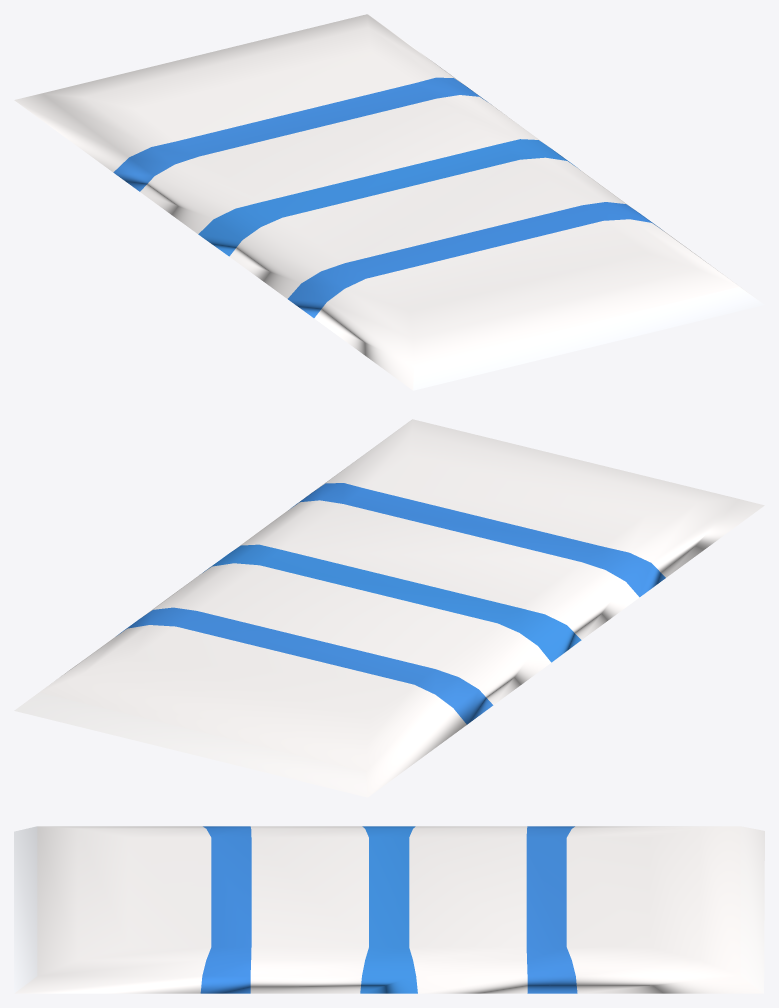
The model's file is BeachTowelBlue.glb.
3 renders of one model, top to bottom at view 1: azimuth 30°, elevation 25°; view 2: azimuth 150°, elevation 25°; view 3: azimuth 270°, elevation 25°, orthographic. The views are drawn at different scales.
Visible parts, largest first — view 1: BeachTowelBlue; view 2: BeachTowelBlue; view 3: BeachTowelBlue.
Part boxes in pixels (x1,y1,x2,y2): BeachTowelBlue: (14, 14, 764, 390); BeachTowelBlue: (14, 419, 764, 797); BeachTowelBlue: (14, 826, 764, 993).
Bounding box in the file's own units: 1.43 × 0.0831 × 2.79.
1 material, 1 textured.
